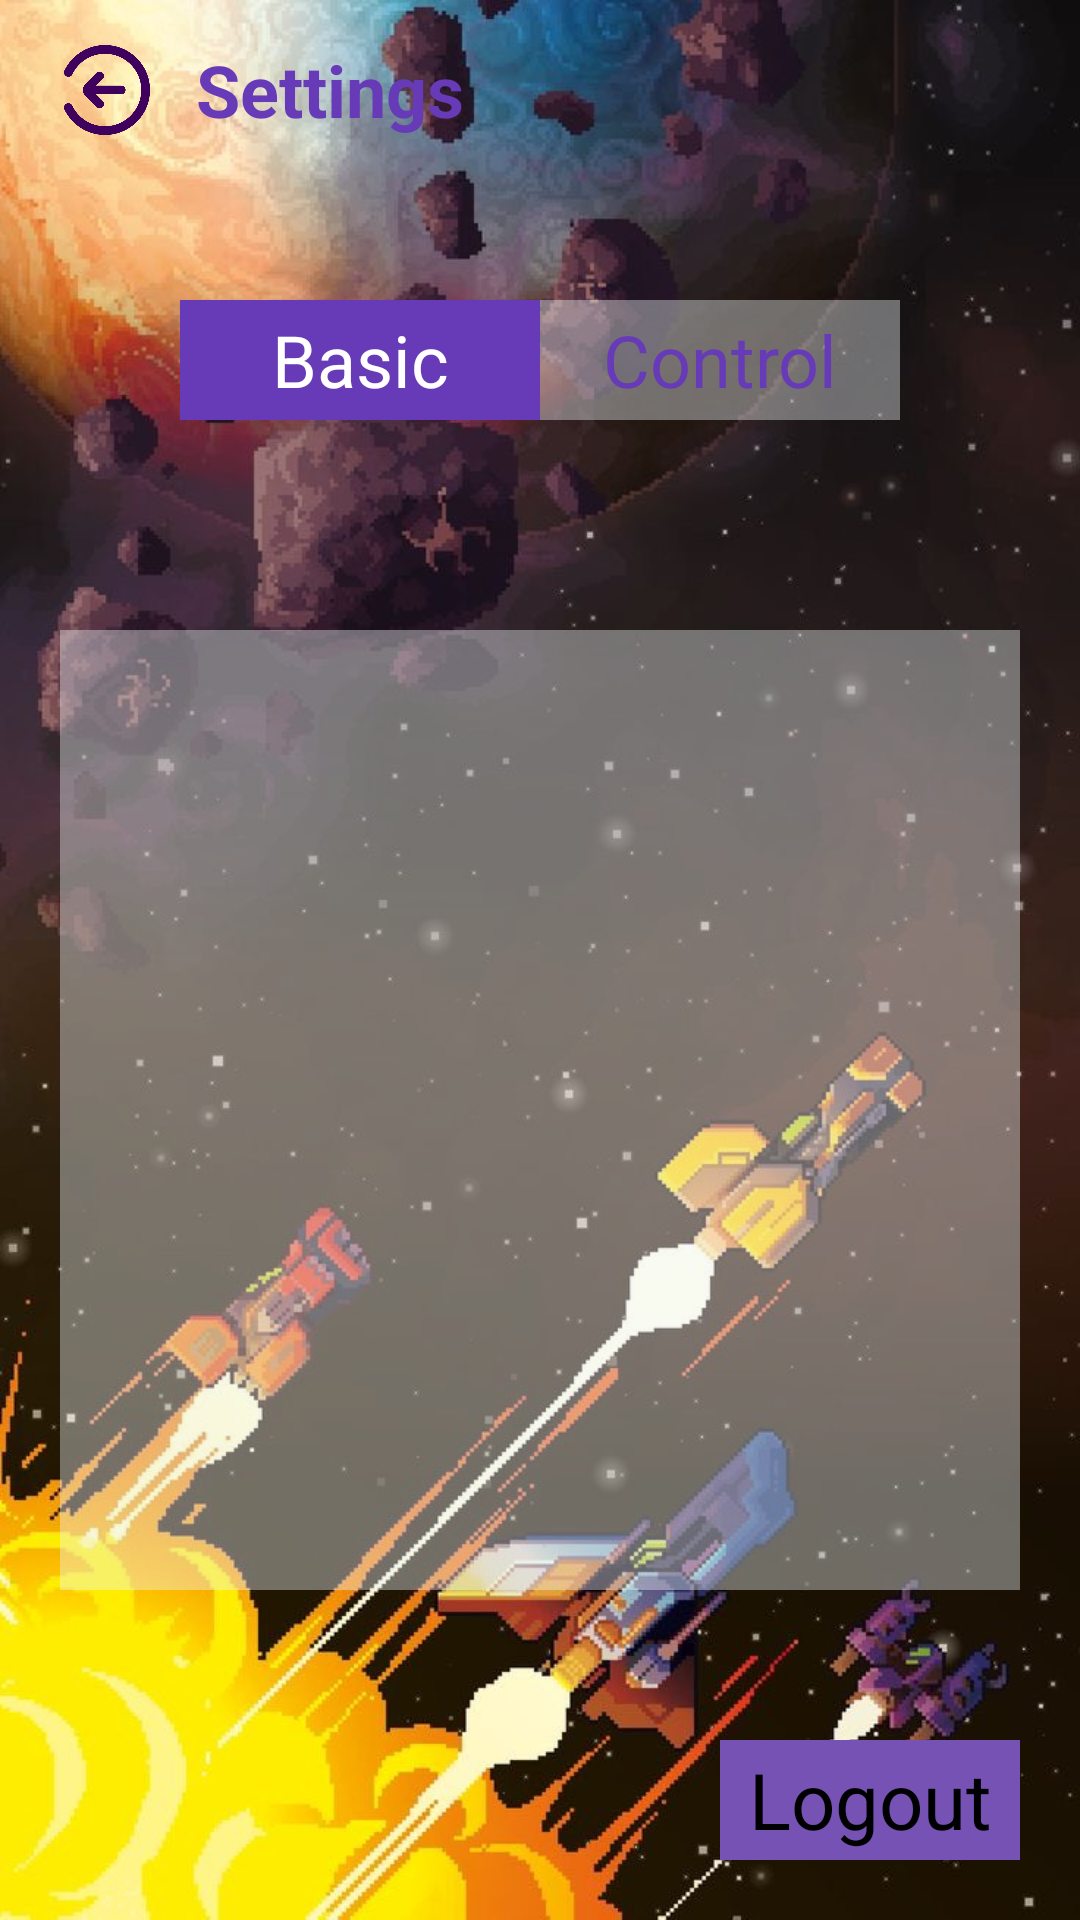

Icon bounding boxes for this 1080 × 1920 phone screenshot, format region(x1, y1, x2, y2):
exit: region(64, 45, 150, 135)
